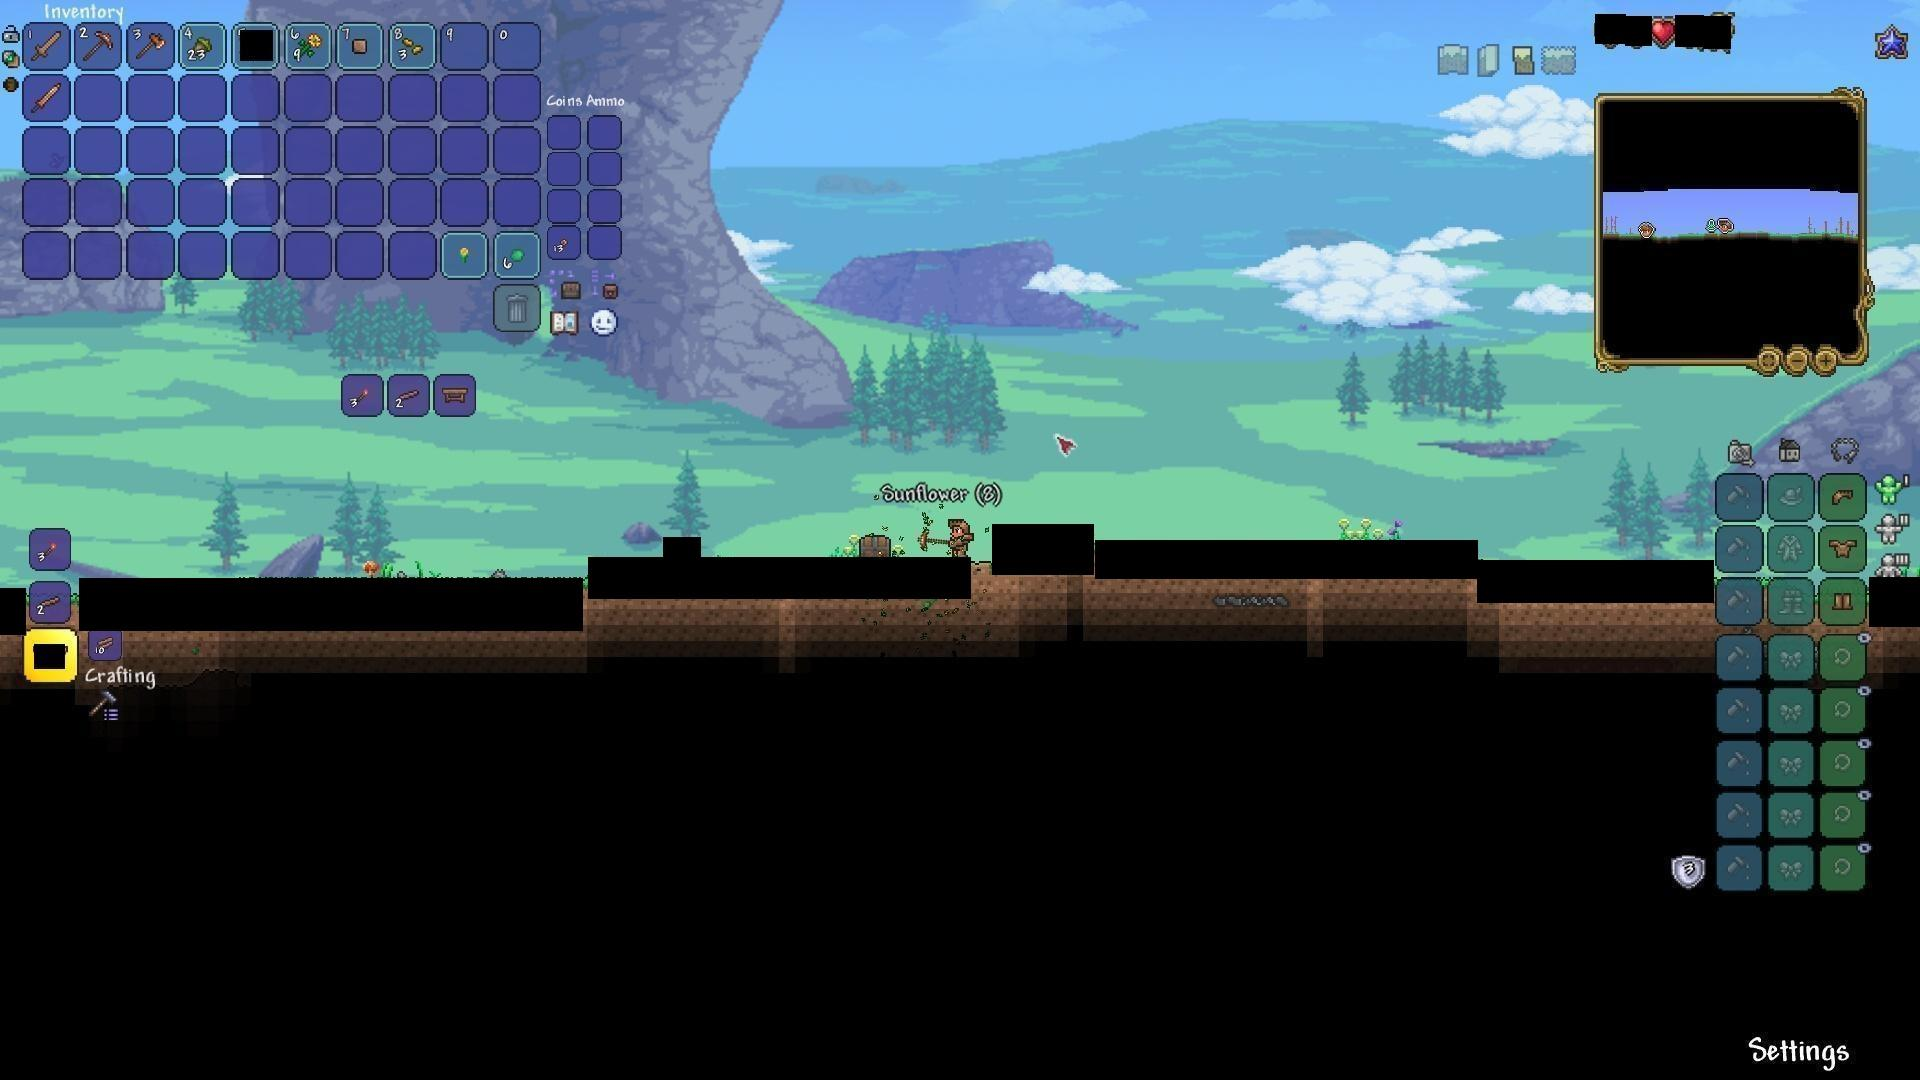breastplate: (1829, 537, 1859, 558)
heart: (1648, 17, 1676, 47)
helmet: (1826, 483, 1858, 512)
legs: (1832, 587, 1855, 616)
wood: (88, 629, 120, 659)
workbench: (436, 382, 473, 407)
